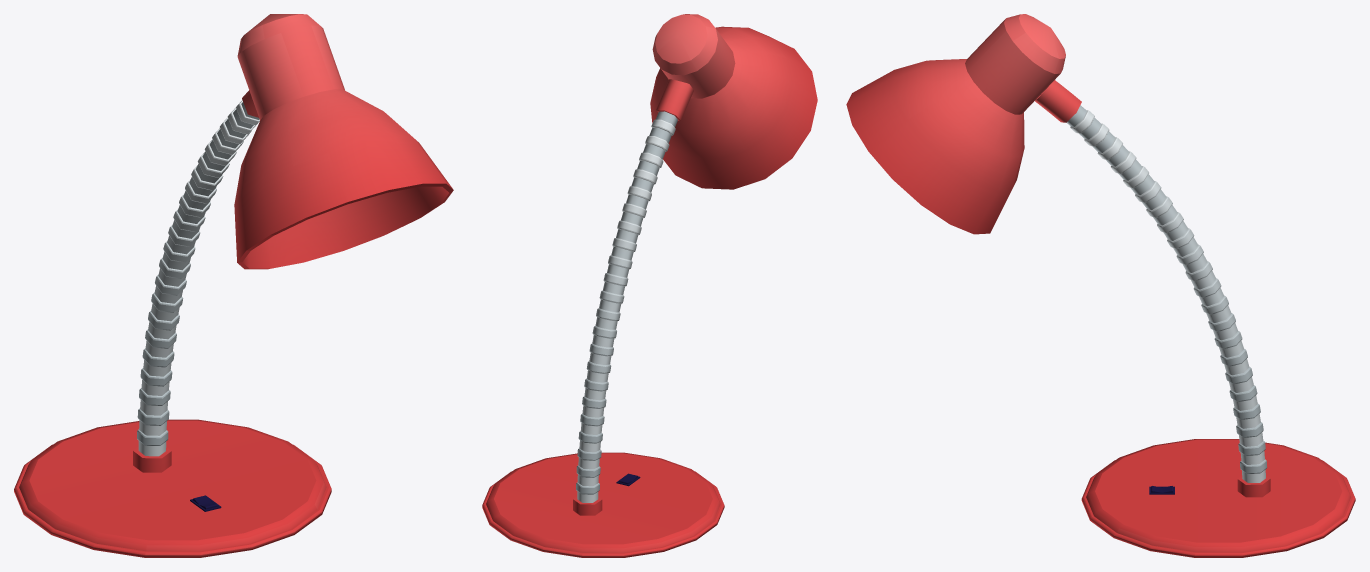
Rendered from Desk Lamp.fbx.
The picture shows the model from 3 angles, left to right: view 1: azimuth 30°, elevation 25°; view 2: azimuth 150°, elevation 25°; view 3: azimuth 270°, elevation 25°; orthographic projection. The views are drawn at different scales.
Parts seen in each view (by area): view 1: Desk_Lamp:pCylinder2; view 2: Desk_Lamp:pCylinder2; view 3: Desk_Lamp:pCylinder2.
Part boxes in pixels (x1=…): Desk_Lamp:pCylinder2: x1=14, y1=14, x2=453, y2=557; Desk_Lamp:pCylinder2: x1=482, y1=14, x2=817, y2=557; Desk_Lamp:pCylinder2: x1=846, y1=14, x2=1355, y2=557.
Bounding box in the file's own units: 0.2623 × 0.5186 × 0.4954.
